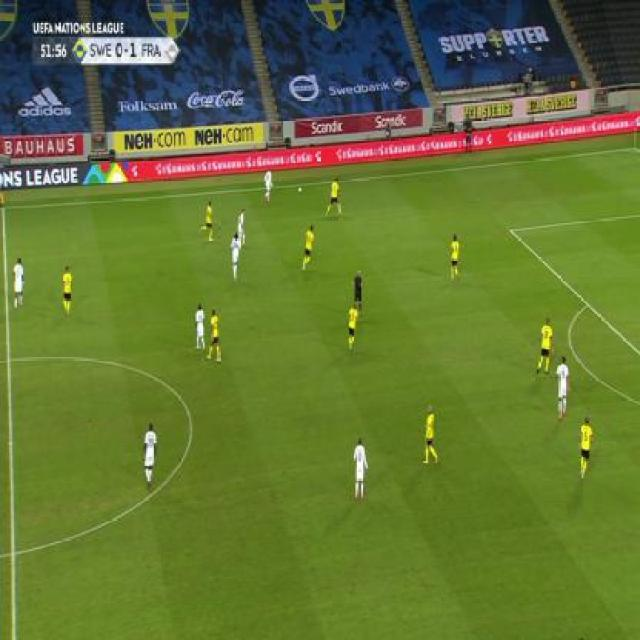ball: (298, 185, 303, 193)
player: (141, 418, 160, 491), (534, 314, 556, 376), (575, 414, 595, 482), (351, 434, 370, 502), (420, 403, 440, 466), (554, 353, 571, 421), (206, 307, 223, 363), (10, 256, 27, 310), (324, 175, 343, 217), (301, 223, 317, 272), (60, 263, 74, 317), (199, 197, 216, 240), (346, 301, 360, 352), (193, 303, 207, 352), (447, 232, 461, 281), (229, 231, 242, 282), (351, 266, 364, 314), (235, 206, 248, 248), (262, 168, 275, 202)
